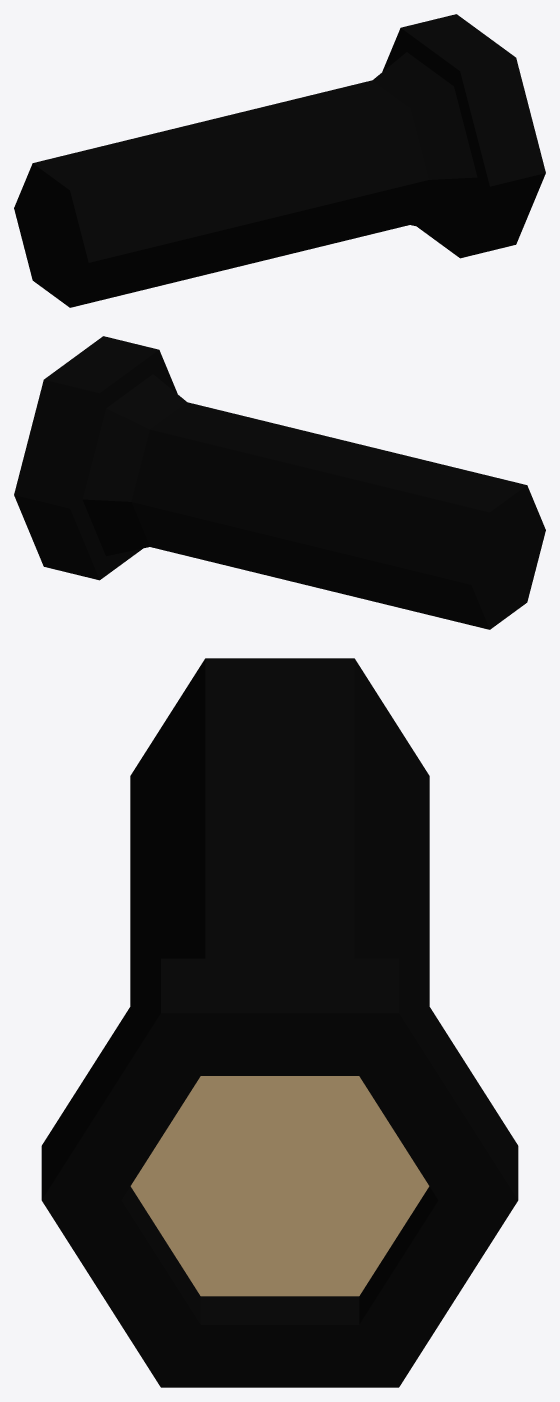
The model's file is torch.fbx.
3 views of the same model, one above another, from view 1: azimuth 30°, elevation 25°; view 2: azimuth 150°, elevation 25°; view 3: azimuth 270°, elevation 25° (orthographic). The views are drawn at different scales.
Parts seen in each view (by area): view 1: Cylinder; view 2: Cylinder; view 3: Cylinder.
Part boxes in pixels (x1,y1,x2,y2): Cylinder: (14,14,545,307); Cylinder: (14,336,545,629); Cylinder: (41,658,518,1387).
Bounding box in the file's own units: 26.88 × 11.04 × 12.75.
